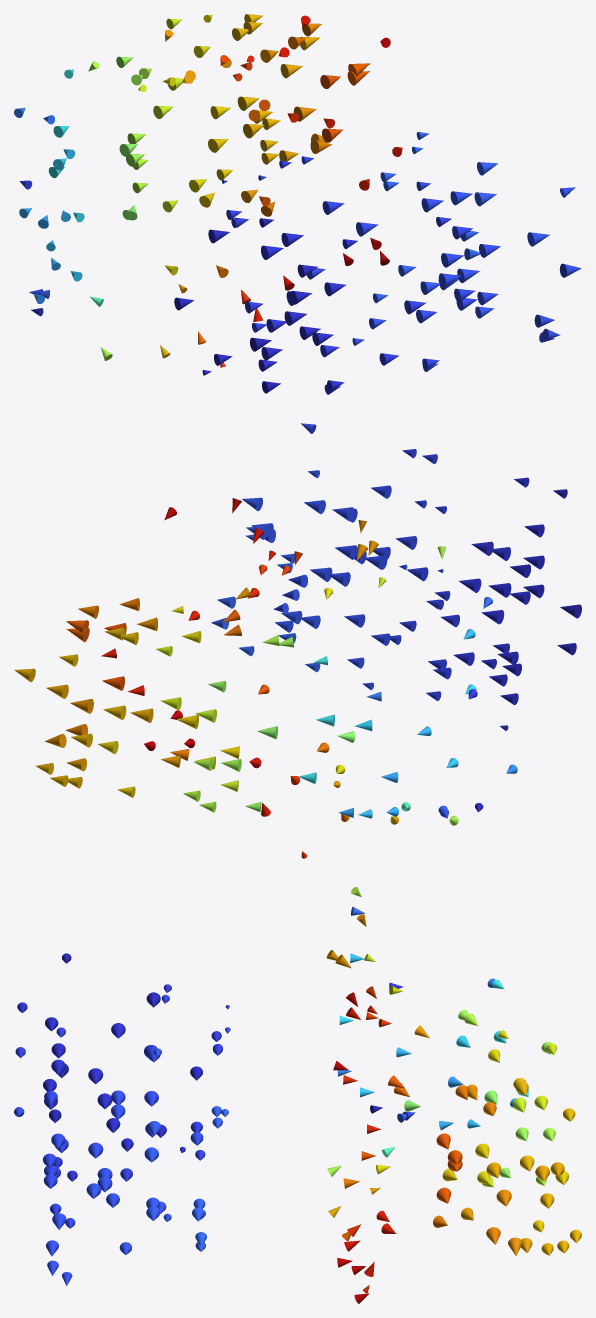
The model's file is LineasCorrienteN2-H2O_mh2-1.38_V-0.7.glb.
3 renders of one model, top to bottom at view 1: azimuth 30°, elevation 25°; view 2: azimuth 150°, elevation 25°; view 3: azimuth 270°, elevation 25°, orthographic.
Bounding box in the file's own units: 0.000986 × 0.00082 × 0.0012.
2 materials, 2 textured.
